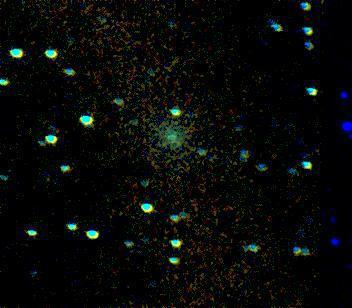star: (166, 135, 196, 165)
